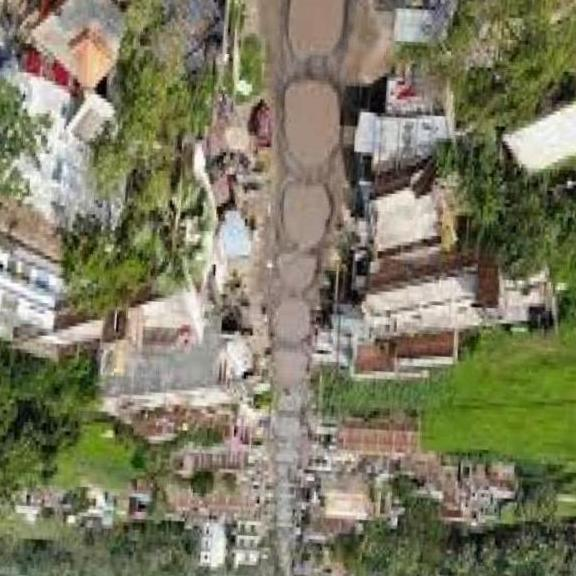pothole: (278, 73, 350, 168), (274, 179, 333, 252), (290, 0, 348, 66), (270, 244, 320, 294), (272, 298, 312, 344), (276, 343, 311, 385)
